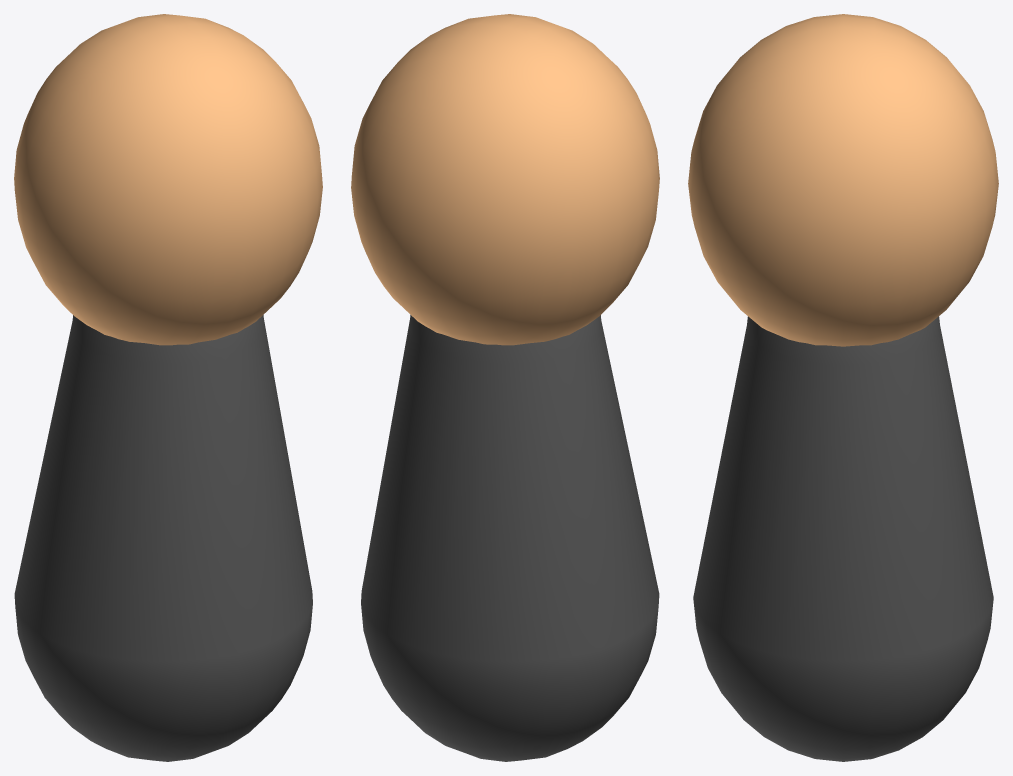
The model's file is Player.fbx.
3 renders of one model, left to right at view 1: azimuth 30°, elevation 25°; view 2: azimuth 150°, elevation 25°; view 3: azimuth 270°, elevation 25°, orthographic.
Visible parts, largest first — view 1: Capsule, Sphere; view 2: Capsule, Sphere; view 3: Capsule, Sphere.
Part boxes in pixels (<box>): Capsule: <box>14,315,312,761</box>; Sphere: <box>14,14,322,345</box>; Capsule: <box>361,315,659,761</box>; Sphere: <box>351,14,659,345</box>; Capsule: <box>693,316,993,761</box>; Sphere: <box>688,14,998,346</box>.
Size of the model in its own units: 58.11 by 149 by 58.05.
